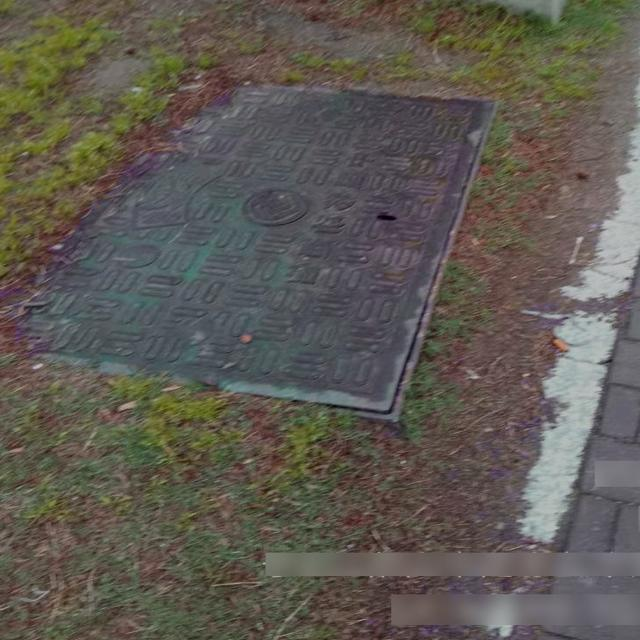good: (18, 84, 501, 419)
